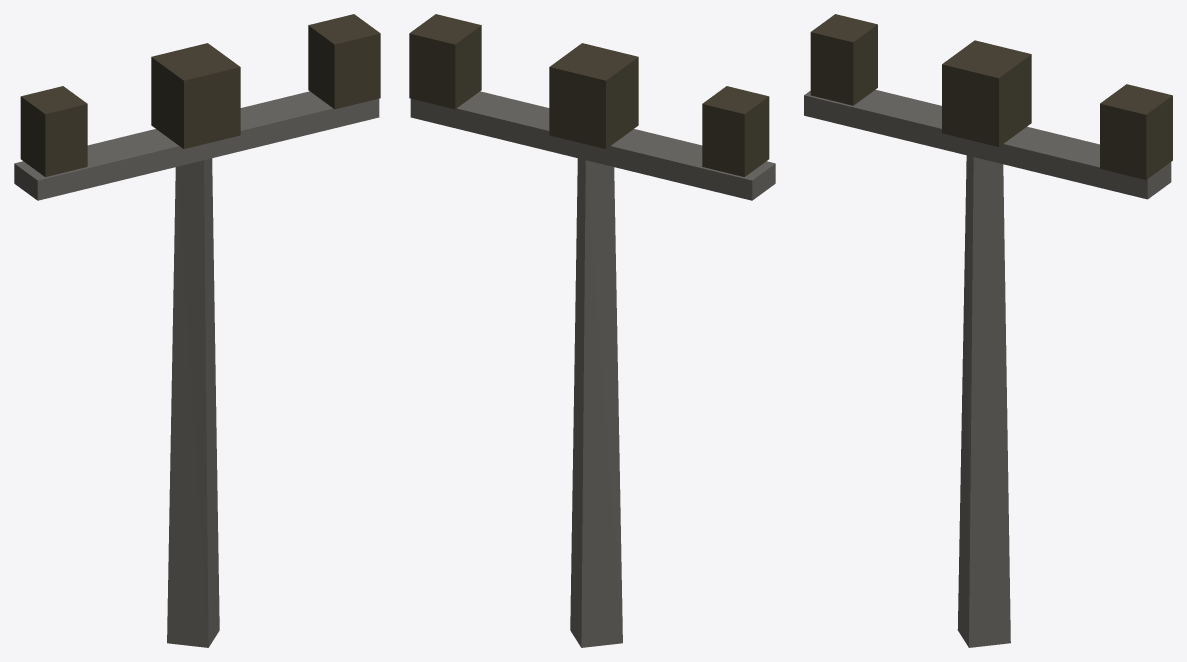
Rendered from lamppost.obj.
3 renders of one model, left to right at view 1: azimuth 30°, elevation 25°; view 2: azimuth 150°, elevation 25°; view 3: azimuth 330°, elevation 25°, orthographic.
Visible parts, largest first — view 1: Cylinder_3, Cube_3, Cube_5, Cube_6, Cube_4; view 2: Cylinder_3, Cube_3, Cube_5, Cube_6, Cube_4; view 3: Cylinder_3, Cube_3, Cube_5, Cube_6, Cube_4.
Boxes of the visible parts, x1=… form: Cylinder_3: x1=167, y1=158, x2=219, y2=647; Cube_3: x1=14, y1=91, x2=379, y2=200; Cube_5: x1=151, y1=43, x2=240, y2=148; Cube_6: x1=308, y1=14, x2=380, y2=109; Cube_4: x1=20, y1=86, x2=87, y2=176; Cylinder_3: x1=570, y1=158, x2=622, y2=647; Cube_3: x1=410, y1=91, x2=775, y2=200; Cube_5: x1=549, y1=43, x2=638, y2=148; Cube_6: x1=409, y1=14, x2=481, y2=109; Cube_4: x1=702, y1=86, x2=769, y2=176; Cylinder_3: x1=957, y1=155, x2=1010, y2=647; Cube_3: x1=804, y1=89, x2=1171, y2=199; Cube_5: x1=942, y1=40, x2=1031, y2=146; Cube_6: x1=1100, y1=84, x2=1172, y2=179; Cube_4: x1=810, y1=14, x2=877, y2=105.
Size of the model in its own units: 1.93 by 3.1 by 0.32.
